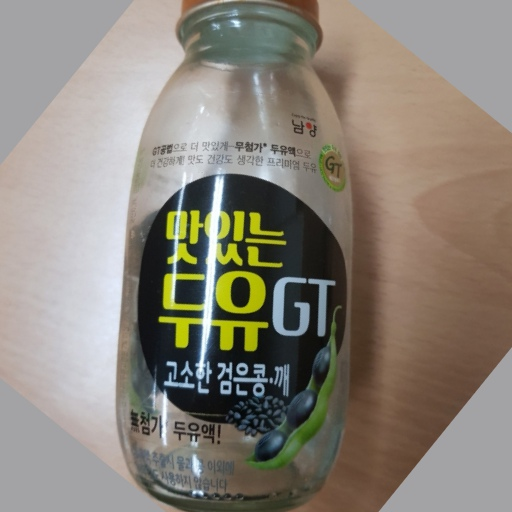Glass_4: (116, 1, 355, 510)
